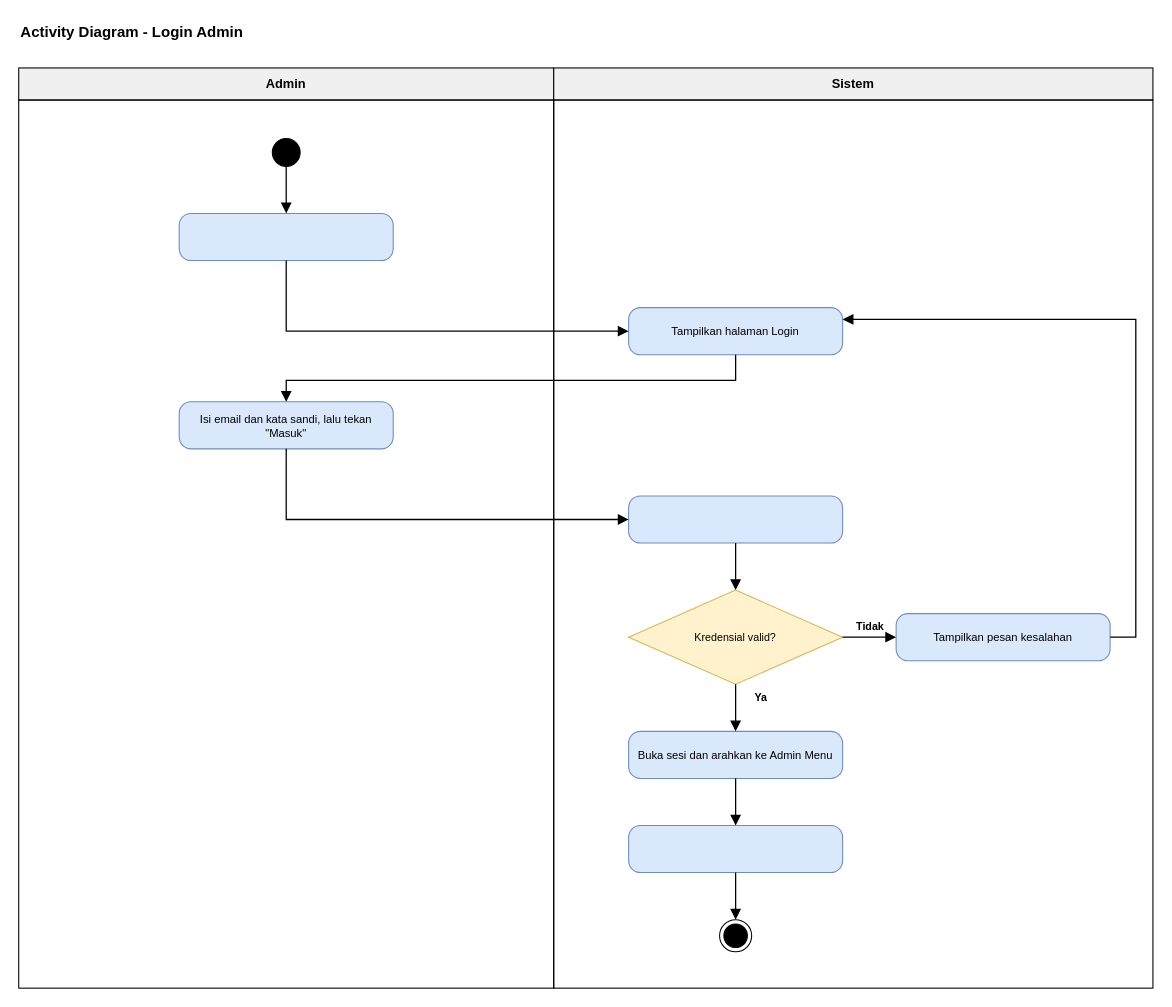
Some shapes in this 1172 by 1007 pixel diagram are drawn without their labels. The centre of each missing label's shape, as x and y in pixels:
Buka halaman Login: [285,236]
Periksa kredensial dan peran akun: [735,519]
Tampilkan "Ringkasan bisnis": [735,848]
